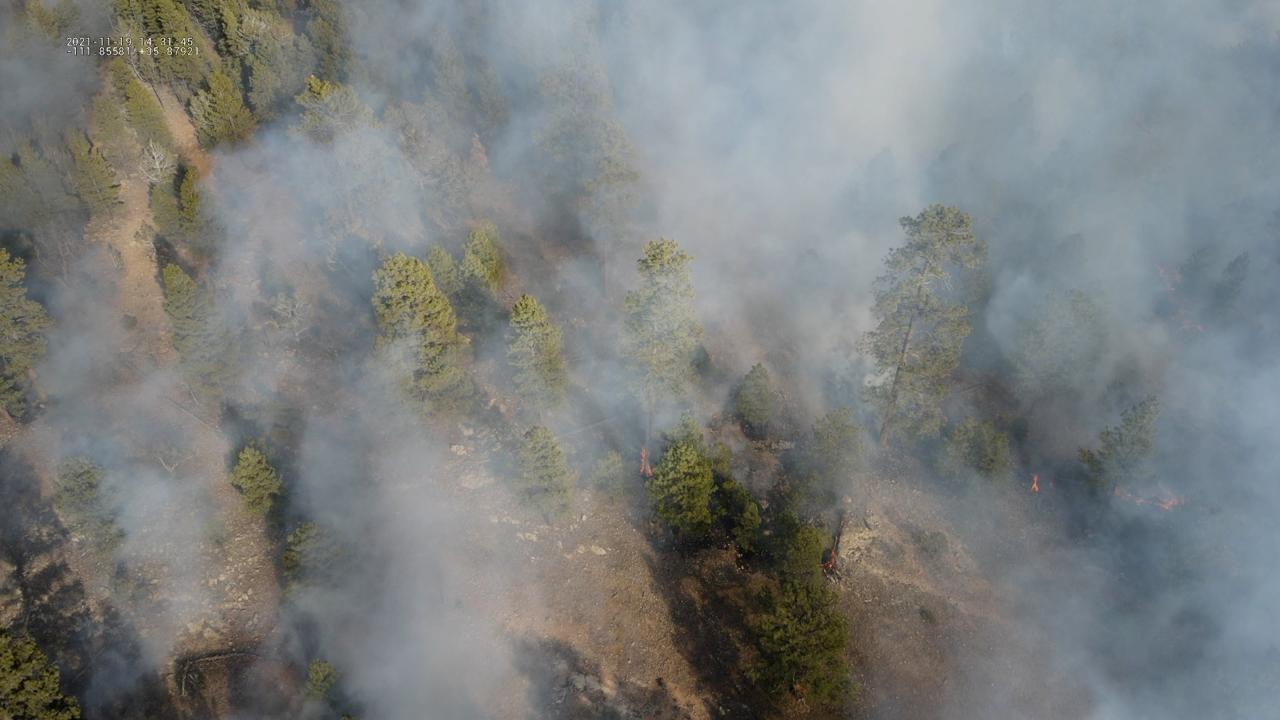fire: (1109, 485, 1184, 513), (635, 447, 656, 480), (818, 549, 840, 573), (1029, 474, 1043, 494)
smoke: (0, 0, 1280, 720)
